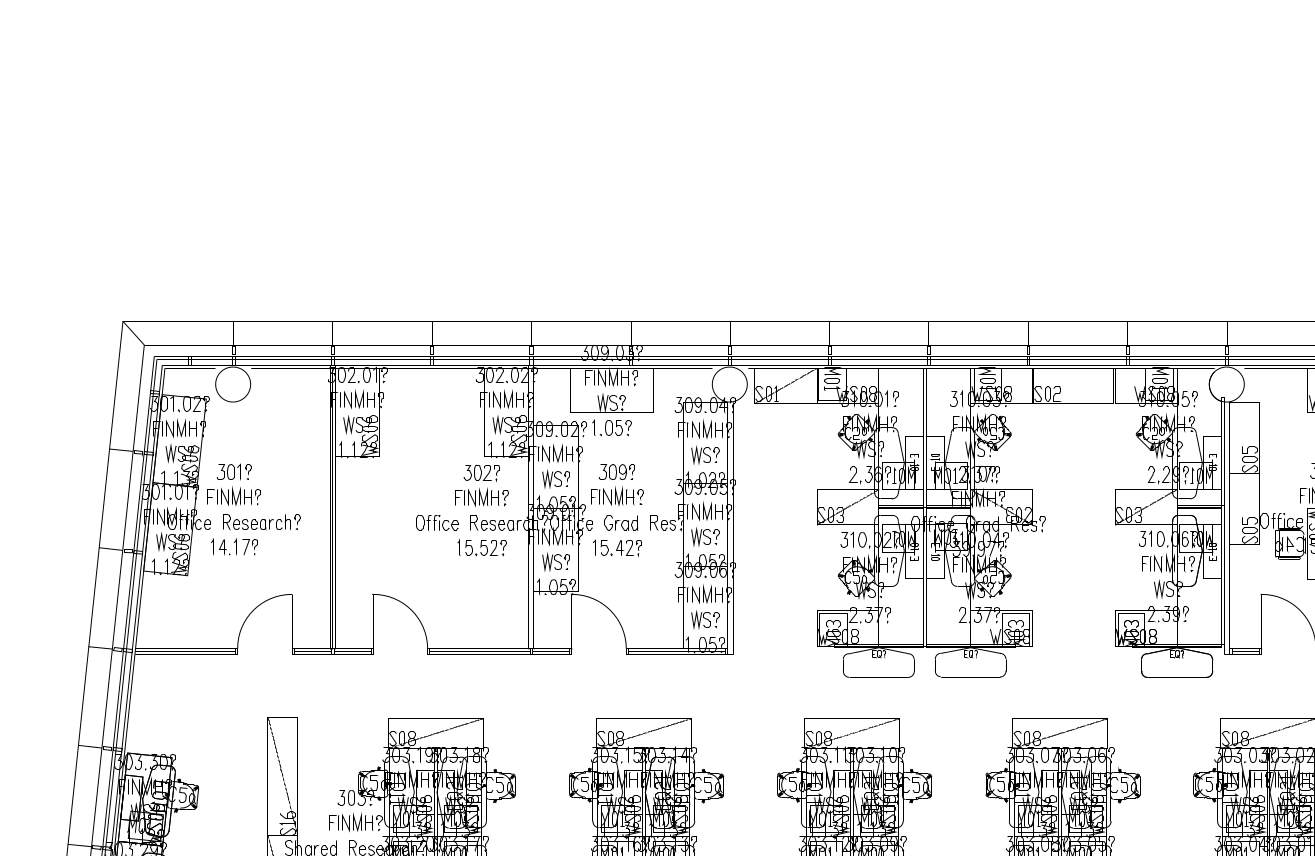door: (234, 589, 297, 657), (366, 589, 429, 657), (564, 589, 627, 657), (1252, 588, 1314, 656)
